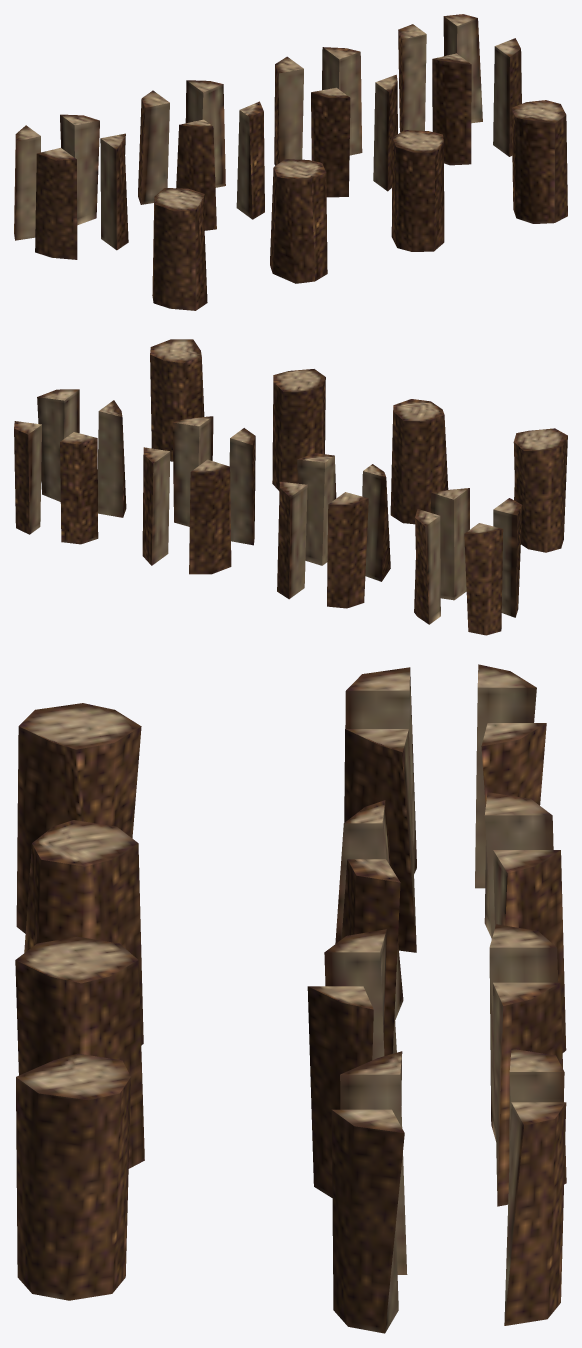
Rendered from wood_for_sketchfab.fbx.
The picture shows the model from 3 angles, top to bottom: view 1: azimuth 30°, elevation 25°; view 2: azimuth 150°, elevation 25°; view 3: azimuth 270°, elevation 25°; orthographic projection. The views are drawn at different scales.
Visible parts, largest first — view 1: wood_piece_3, wood_piece_1, wood_piece_4, wood_piece_2, wood_piece_4.003, wood_piece_1.001, wood_piece_2.001, wood_piece_3.001, wood_piece_3.002, wood_piece_3.004, wood_piece_4.001, wood_piece_4.002 (+8 smaller); view 2: wood_piece_3, wood_piece_4, wood_piece_2, wood_piece_1, wood_piece_2.002, wood_piece_3.002, wood_piece_1.002, wood_piece_4.004, wood_piece_4.002, wood_piece_3.003, wood_piece_1.004, wood_piece_3.004 (+8 smaller); view 3: wood_piece_1, wood_piece_2, wood_piece_4, wood_piece_1.004, wood_piece_3, wood_piece_1.003, wood_piece_4.002, wood_piece_2.004, wood_piece_2.003, wood_piece_3.003, wood_piece_3.004, wood_piece_4.001 (+8 smaller).
Boxes of the visible parts, x1,y1,x2,y2 form: wood_piece_3: (270, 159, 327, 283); wood_piece_1: (511, 100, 567, 223); wood_piece_4: (152, 188, 207, 310); wood_piece_2: (391, 130, 444, 251); wood_piece_4.003: (35, 148, 77, 259); wood_piece_1.001: (432, 53, 471, 165); wood_piece_2.001: (311, 87, 350, 197); wood_piece_3.001: (176, 119, 216, 230); wood_piece_3.002: (138, 90, 169, 204); wood_piece_3.004: (236, 101, 264, 219); wood_piece_4.001: (60, 114, 99, 225); wood_piece_4.002: (100, 133, 128, 250); wood_piece_3: (390, 399, 448, 524); wood_piece_4: (513, 428, 567, 552); wood_piece_2: (272, 369, 325, 491); wood_piece_1: (150, 339, 204, 461); wood_piece_2.002: (189, 459, 231, 574); wood_piece_3.002: (327, 492, 368, 608); wood_piece_1.002: (60, 432, 98, 544); wood_piece_4.004: (464, 523, 503, 635); wood_piece_4.002: (430, 488, 469, 600); wood_piece_3.003: (277, 481, 307, 599); wood_piece_1.004: (37, 389, 79, 501); wood_piece_3.004: (297, 453, 336, 565); wood_piece_1: (16, 1053, 130, 1300); wood_piece_2: (15, 936, 144, 1168); wood_piece_4: (16, 703, 141, 933); wood_piece_1.004: (331, 1109, 404, 1333); wood_piece_3: (24, 820, 143, 1045); wood_piece_1.003: (504, 1102, 566, 1325); wood_piece_4.002: (344, 729, 416, 952); wood_piece_2.004: (307, 986, 373, 1197); wood_piece_2.003: (493, 982, 566, 1206); wood_piece_3.003: (493, 850, 566, 1052); wood_piece_3.004: (341, 859, 400, 1055); wood_piece_4.001: (481, 723, 546, 937).
Bounding box in the file's own units: 2.01 × 0.4 × 0.997.
